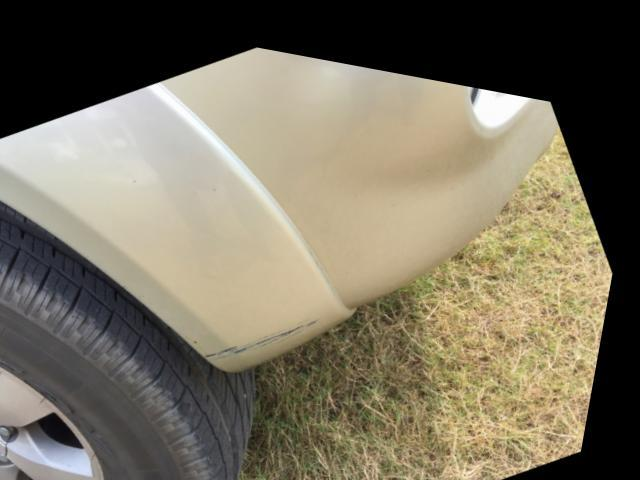scratch: (217, 301, 330, 351)
